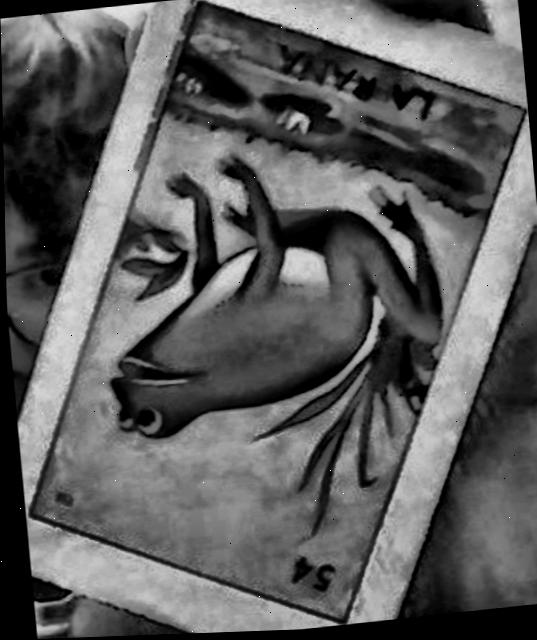La Rana: (26, 4, 525, 625)
